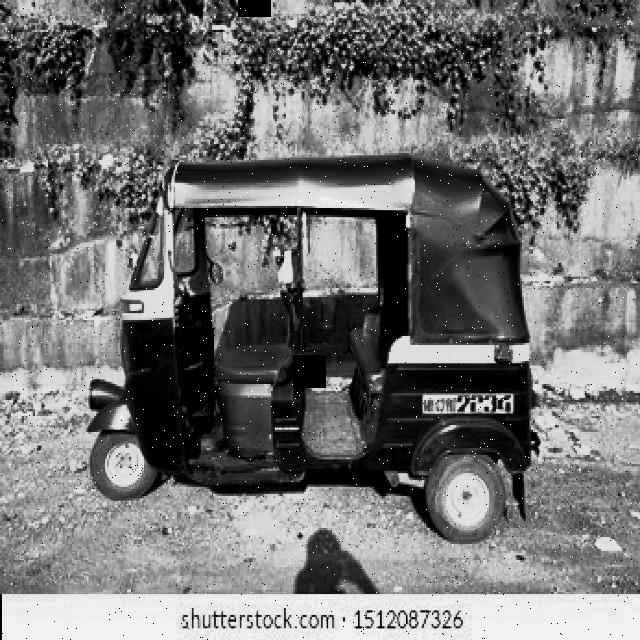Auto-Rickshaw: (105, 133, 547, 542)
